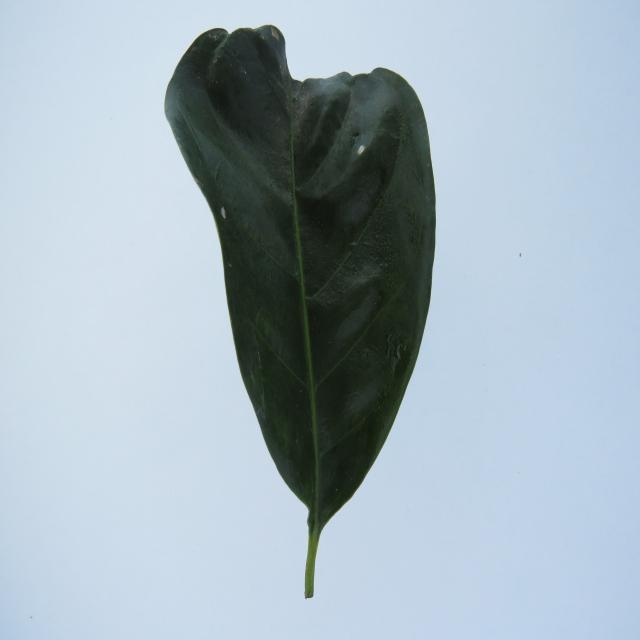DeficienciaNutricional-Boro: (165, 25, 435, 598)
